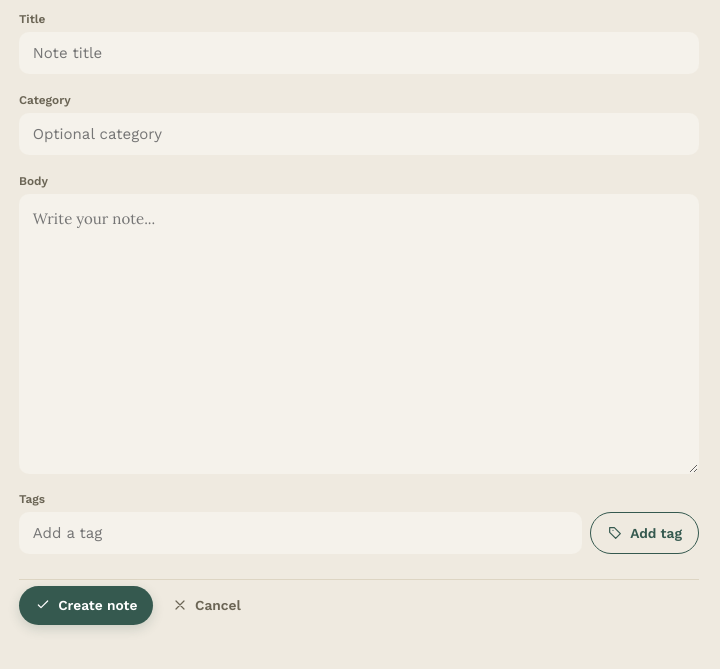
Test: NoteForm validation › shows an error and does not add an empty tag
The width and height of the screenshot is (720, 669).
Click the button "Add tag" at (644, 533), box [590,512,699,554]
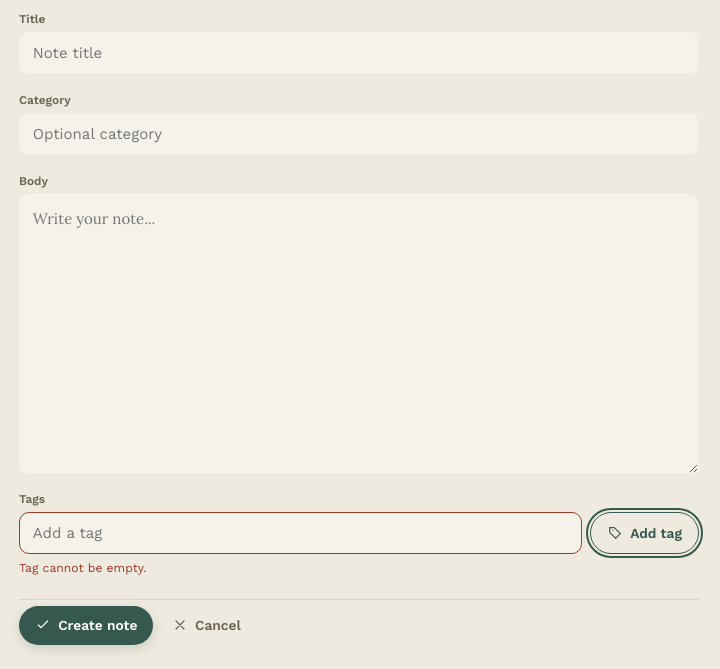
Expected: the text "Tag cannot be empty." is shown, [19,560,146,574]
